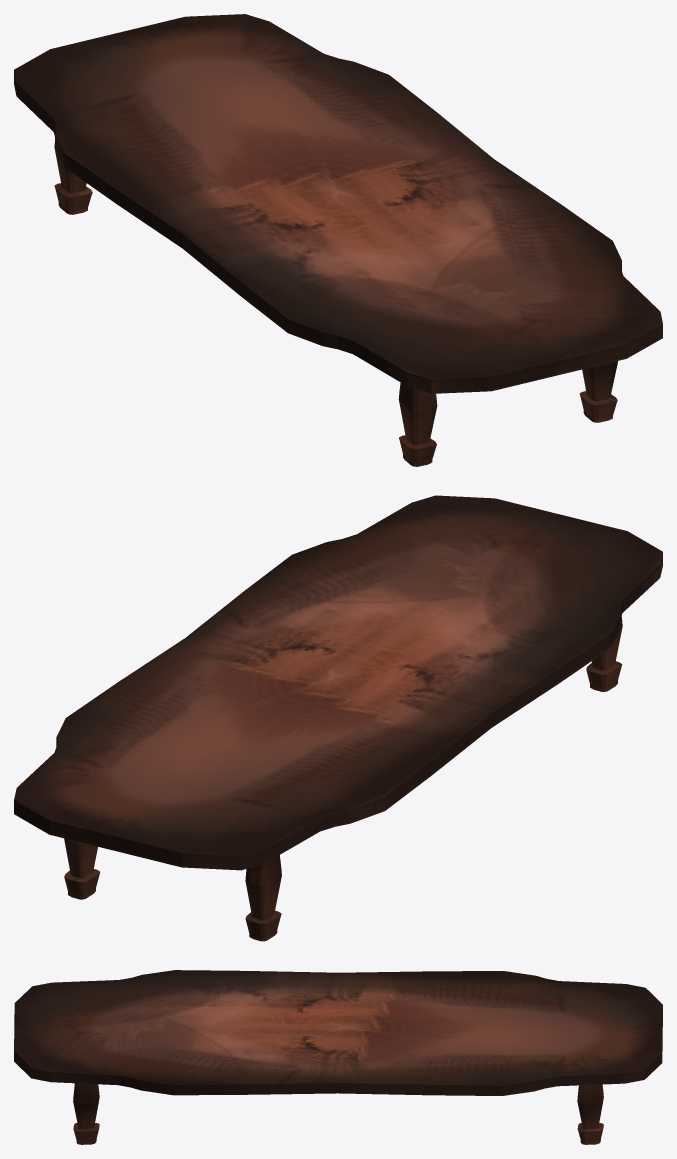
File: CoffeeTableTop_Large_01.fbx
The picture shows the model from 3 angles, top to bottom: view 1: azimuth 30°, elevation 25°; view 2: azimuth 150°, elevation 25°; view 3: azimuth 270°, elevation 25°; orthographic projection. The views are drawn at different scales.
Parts seen in each view (by area): view 1: CoffeeTable_01; view 2: CoffeeTable_01; view 3: CoffeeTable_01.
Boxes of the visible parts, x1,y1,x2,y2 form: CoffeeTable_01: (14,14,662,466); CoffeeTable_01: (14,495,662,941); CoffeeTable_01: (14,970,662,1144).
Bounding box in the file's own units: 9.72 × 3.31 × 23.05.
